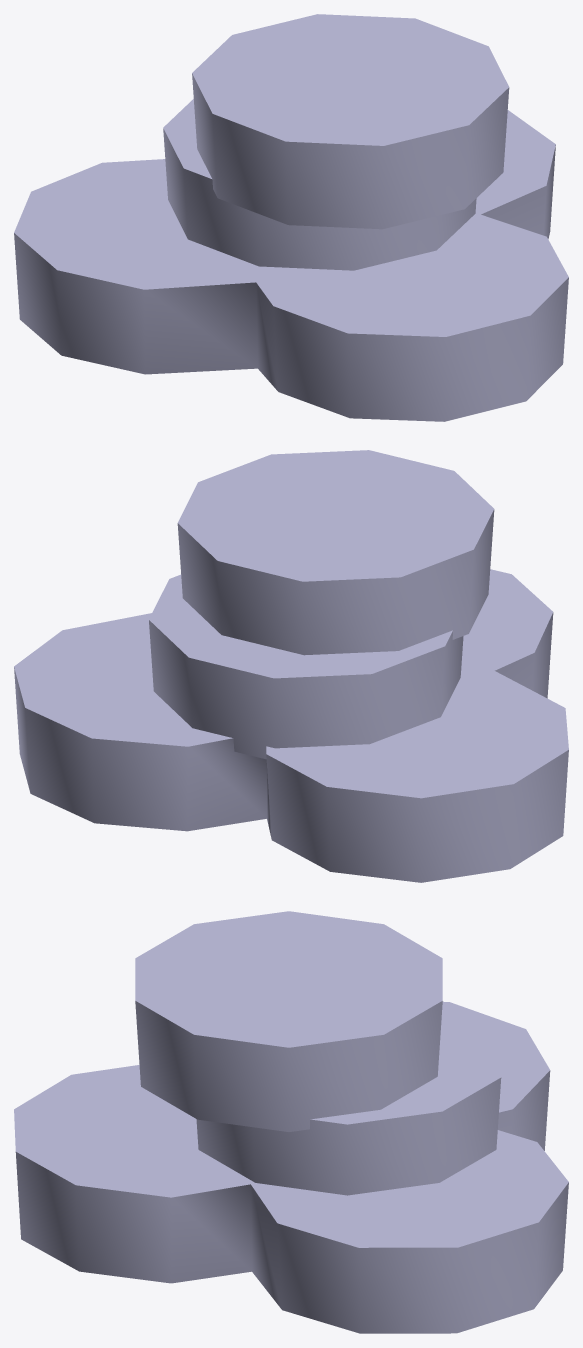
Rendered from COINPICKUP05.fbx.
The picture shows the model from 3 angles, top to bottom: view 1: azimuth 30°, elevation 25°; view 2: azimuth 150°, elevation 25°; view 3: azimuth 270°, elevation 25°; orthographic projection.
Parts seen in each view (by area): view 1: COINPICKUP05; view 2: COINPICKUP05; view 3: COINPICKUP05.
Boxes of the visible parts, bbox=[...] form: COINPICKUP05: bbox=[14, 14, 568, 421]; COINPICKUP05: bbox=[14, 450, 568, 882]; COINPICKUP05: bbox=[14, 911, 568, 1333].
Bounding box in the file's own units: 4130 × 1845 × 3893.
